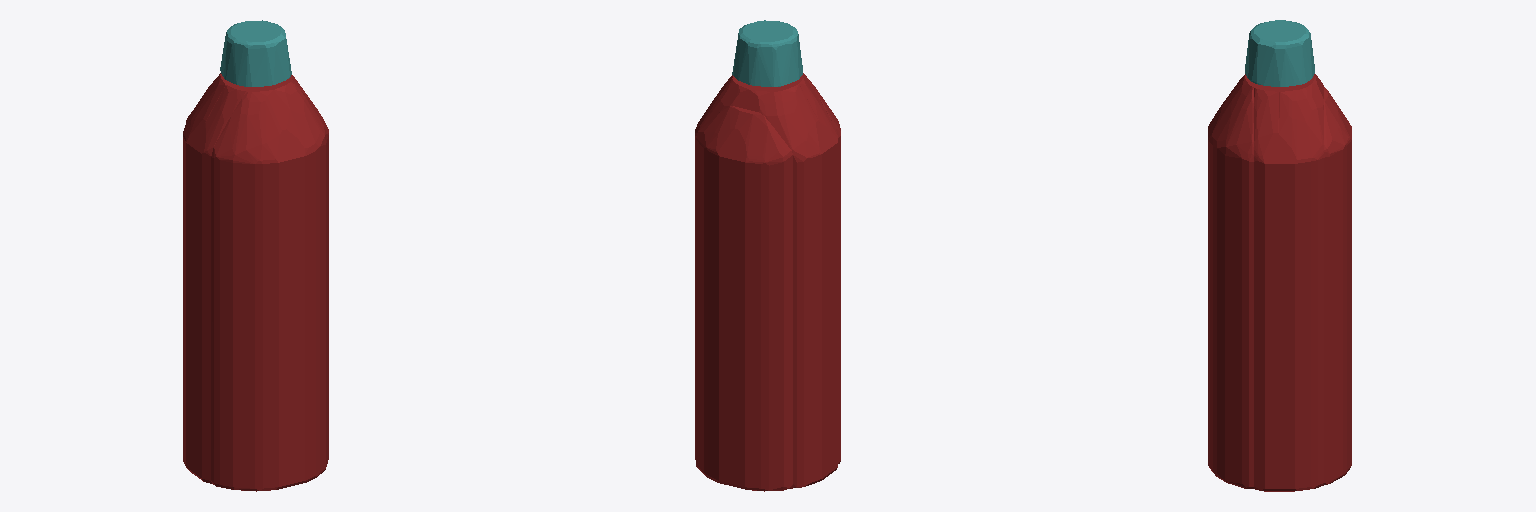
robot.urdf — root:
<robot name="root">
  <link name="bottle_body">
    <inertial>
      <origin xyz="0 0 0" rpy="0 0 0"/>
    </inertial>
    <mass value="1.00E-02"/>
    <visual>
      <origin xyz="0 0 0" rpy="0 0 0"/>
      <geometry>
        <mesh filename="core-bottle-40aee078f0390b7134076b5960251711-coacd_convex_piece_2.obj" scale="1.0000E-01 1.0000E-01 1.0000E-01"/>
      </geometry>
      <material name="">
        <color rgba="6.00E-01 2.00E-01 2.00E-01 1"/>
      </material>
    </visual>
    <collision>
      <origin xyz="0 0 0" rpy="0 0 0"/>
      <geometry>
        <mesh filename="core-bottle-40aee078f0390b7134076b5960251711-coacd_convex_piece_2.obj" scale="1.0000E-01 1.0000E-01 1.0000E-01"/>
      </geometry>
    </collision>
    <visual>
      <origin xyz="0 0 0" rpy="0 0 0"/>
      <geometry>
        <mesh filename="core-bottle-40aee078f0390b7134076b5960251711-coacd_convex_piece_5.obj" scale="1.0000E-01 1.0000E-01 1.0000E-01"/>
      </geometry>
      <material name="">
        <color rgba="6.00E-01 2.00E-01 2.00E-01 1"/>
      </material>
    </visual>
    <collision>
      <origin xyz="0 0 0" rpy="0 0 0"/>
      <geometry>
        <mesh filename="core-bottle-40aee078f0390b7134076b5960251711-coacd_convex_piece_5.obj" scale="1.0000E-01 1.0000E-01 1.0000E-01"/>
      </geometry>
    </collision>
    <visual>
      <origin xyz="0 0 0" rpy="0 0 0"/>
      <geometry>
        <mesh filename="core-bottle-40aee078f0390b7134076b5960251711-coacd_convex_piece_6.obj" scale="1.0000E-01 1.0000E-01 1.0000E-01"/>
      </geometry>
      <material name="">
        <color rgba="6.00E-01 2.00E-01 2.00E-01 1"/>
      </material>
    </visual>
    <collision>
      <origin xyz="0 0 0" rpy="0 0 0"/>
      <geometry>
        <mesh filename="core-bottle-40aee078f0390b7134076b5960251711-coacd_convex_piece_6.obj" scale="1.0000E-01 1.0000E-01 1.0000E-01"/>
      </geometry>
    </collision>
    <visual>
      <origin xyz="0 0 0" rpy="0 0 0"/>
      <geometry>
        <mesh filename="core-bottle-40aee078f0390b7134076b5960251711-coacd_convex_piece_4.obj" scale="1.0000E-01 1.0000E-01 1.0000E-01"/>
      </geometry>
      <material name="">
        <color rgba="6.00E-01 2.00E-01 2.00E-01 1"/>
      </material>
    </visual>
    <collision>
      <origin xyz="0 0 0" rpy="0 0 0"/>
      <geometry>
        <mesh filename="core-bottle-40aee078f0390b7134076b5960251711-coacd_convex_piece_4.obj" scale="1.0000E-01 1.0000E-01 1.0000E-01"/>
      </geometry>
    </collision>
    <visual>
      <origin xyz="0 0 0" rpy="0 0 0"/>
      <geometry>
        <mesh filename="core-bottle-40aee078f0390b7134076b5960251711-coacd_convex_piece_1.obj" scale="1.0000E-01 1.0000E-01 1.0000E-01"/>
      </geometry>
      <material name="">
        <color rgba="6.00E-01 2.00E-01 2.00E-01 1"/>
      </material>
    </visual>
    <collision>
      <origin xyz="0 0 0" rpy="0 0 0"/>
      <geometry>
        <mesh filename="core-bottle-40aee078f0390b7134076b5960251711-coacd_convex_piece_1.obj" scale="1.0000E-01 1.0000E-01 1.0000E-01"/>
      </geometry>
    </collision>
    <visual>
      <origin xyz="0 0 0" rpy="0 0 0"/>
      <geometry>
        <mesh filename="core-bottle-40aee078f0390b7134076b5960251711-coacd_convex_piece_3.obj" scale="1.0000E-01 1.0000E-01 1.0000E-01"/>
      </geometry>
      <material name="">
        <color rgba="6.00E-01 2.00E-01 2.00E-01 1"/>
      </material>
    </visual>
    <collision>
      <origin xyz="0 0 0" rpy="0 0 0"/>
      <geometry>
        <mesh filename="core-bottle-40aee078f0390b7134076b5960251711-coacd_convex_piece_3.obj" scale="1.0000E-01 1.0000E-01 1.0000E-01"/>
      </geometry>
    </collision>
  </link>
  <link name="bottle_cap">
    <origin xyz="0 0 0.002" rpy="0 0 0"/>
    <mass value="1.00E-02"/>
    <visual>
      <origin xyz="0 0 0.002" rpy="0 0 0"/>
      <geometry>
        <mesh filename="core-bottle-40aee078f0390b7134076b5960251711-coacd_convex_piece_0.obj" scale="1.0000E-01 1.0000E-01 1.0000E-01"/>
      </geometry>
      <material name="">
        <color rgba="3.00E-01 6.00E-01 6.00E-01 1"/>
      </material>
    </visual>
    <collision>
      <origin xyz="0 0 0.002" rpy="0 0 0"/>
      <geometry>
        <mesh filename="core-bottle-40aee078f0390b7134076b5960251711-coacd_convex_piece_0.obj" scale="1.0000E-01 1.0000E-01 1.0000E-01"/>
      </geometry>
    </collision>
  </link>
  <joint name="bottle_cap_joint" type="revolute">
    <origin xyz="0 0 0" rpy="0 0 0"/>
    <parent link="bottle_body"/>
    <child link="bottle_cap"/>
    <axis xyz="0 0 1"/>
    <limit lower="0.00" upper="6.28"/>
    <dynamics damping="0.05"/>
  </joint>
</robot>

--- Facts derived from the render (not from the file) ---
The picture shows the robot from 3 angles, left to right: view 1: azimuth 30°, elevation 25°; view 2: azimuth 150°, elevation 25°; view 3: azimuth 270°, elevation 25°; orthographic projection.
Model root with 2 links and 1 joints (1 revolute), rooted at bottle_body, posed every joint at zero.
Visible links, largest first — view 1: bottle_body, bottle_cap; view 2: bottle_body, bottle_cap; view 3: bottle_body, bottle_cap.
Link boxes in pixels (x1=…): bottle_body: x1=183, y1=73, x2=328, y2=491; bottle_cap: x1=220, y1=20, x2=291, y2=86; bottle_body: x1=695, y1=73, x2=840, y2=491; bottle_cap: x1=732, y1=20, x2=802, y2=86; bottle_body: x1=1208, y1=74, x2=1351, y2=491; bottle_cap: x1=1245, y1=20, x2=1314, y2=86.
Bounding box of the posed robot: 0.0572 × 0.0572 × 0.19 m (x, y, z).
Meshes: 7 distinct files referenced, 7 mesh visuals loaded (7 OBJ).